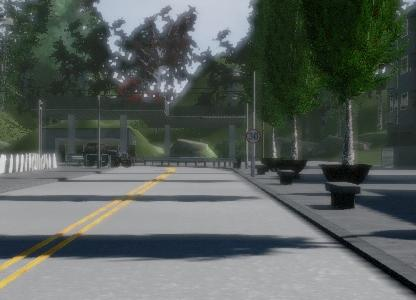Speed_30: (323, 59, 384, 125)
